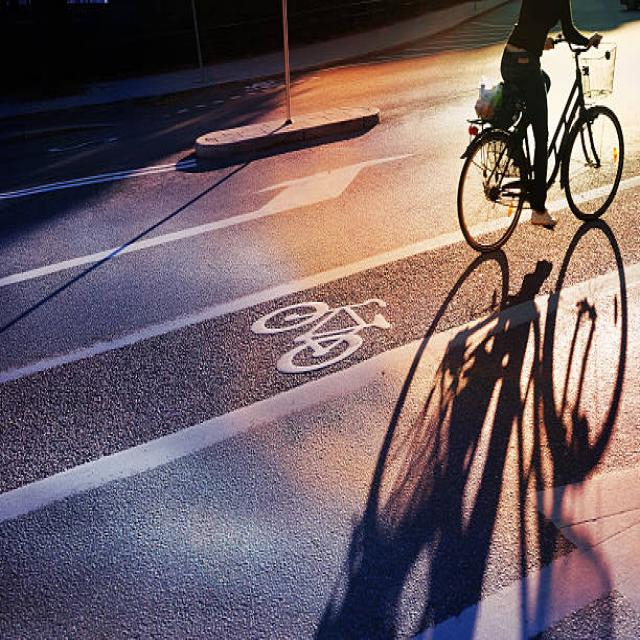bicycle: (458, 0, 624, 251)
